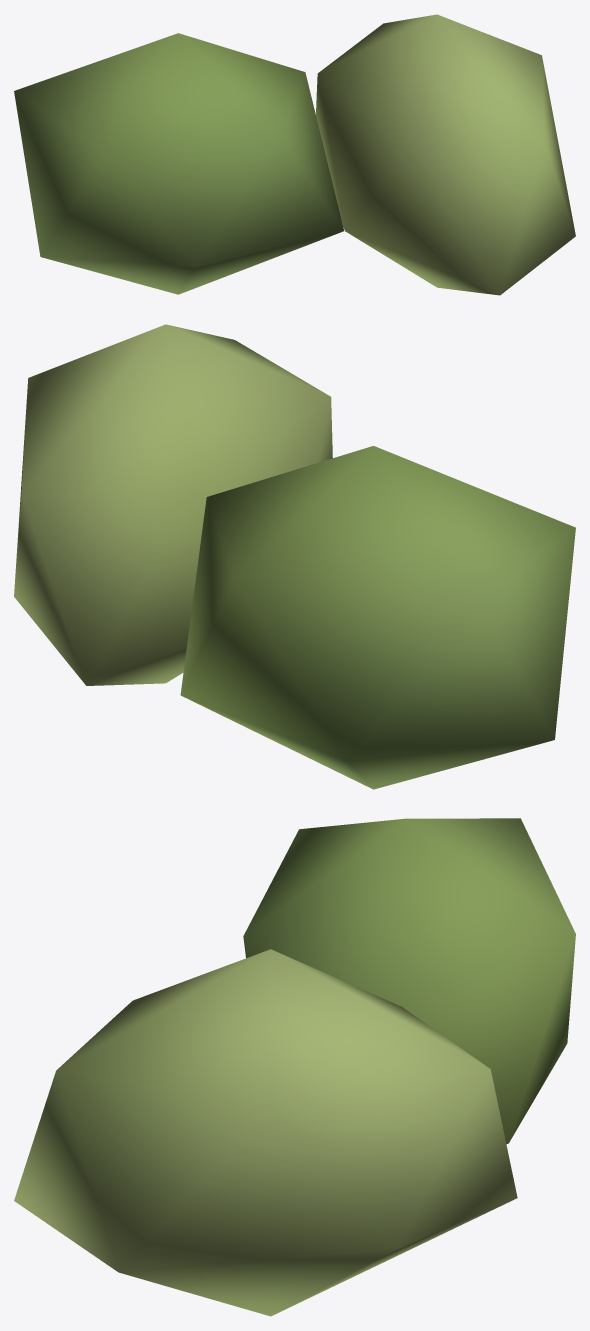
Rendered from tall_grass_far.glb.
3 renders of one model, top to bottom at view 1: azimuth 30°, elevation 25°; view 2: azimuth 150°, elevation 25°; view 3: azimuth 270°, elevation 25°, orthographic. The views are drawn at different scales.
Visible parts, largest first — view 1: tall_grass_far; view 2: tall_grass_far; view 3: tall_grass_far.
Part boxes in pixels (left/top/right/bottom): tall_grass_far: left=14, top=14, right=575, bottom=295; tall_grass_far: left=14, top=324, right=575, bottom=789; tall_grass_far: left=14, top=818, right=575, bottom=1316.
Size of the model in its own units: 1.26 by 0.7283 by 1.01.
